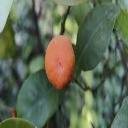orange: (44, 36, 75, 92)
